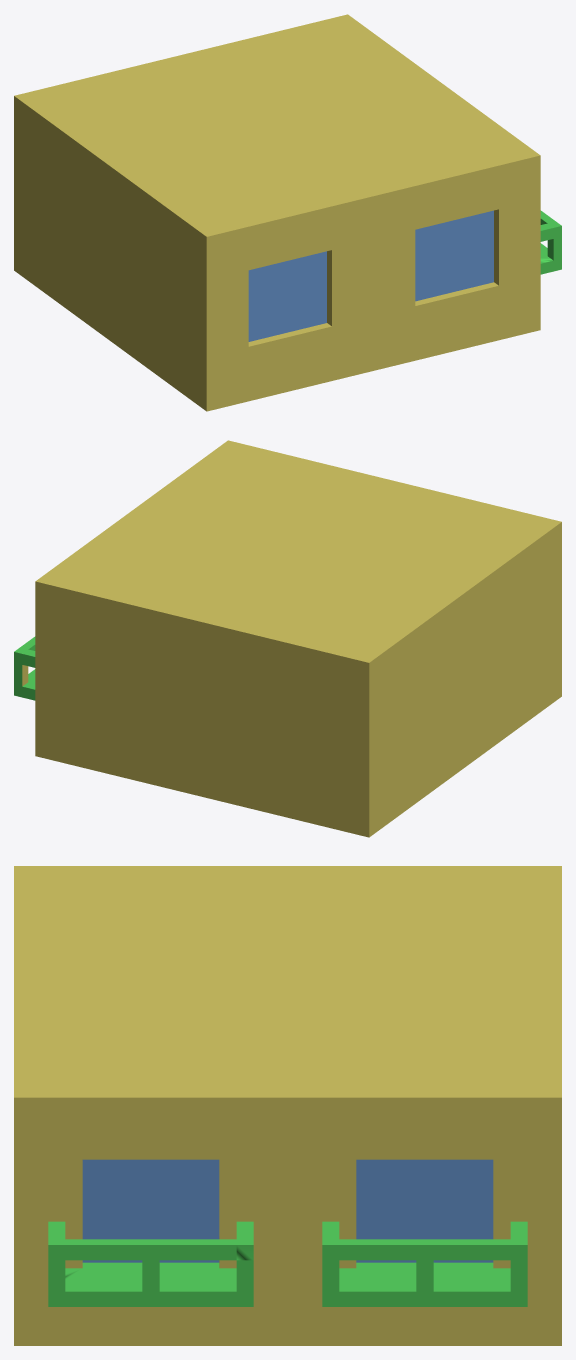
File: Balcony.fbx
3 renders of one model, top to bottom at view 1: azimuth 30°, elevation 25°; view 2: azimuth 150°, elevation 25°; view 3: azimuth 270°, elevation 25°, orthographic. The views are drawn at different scales.
Visible parts, largest first — view 1: Balcony; view 2: Balcony; view 3: Balcony.
Part boxes in pixels (x1,y1,x2,y2): Balcony: (14,14,561,411); Balcony: (14,440,561,837); Balcony: (14,866,561,1345).
Size of the model in its own units: 880 by 400 by 800.
